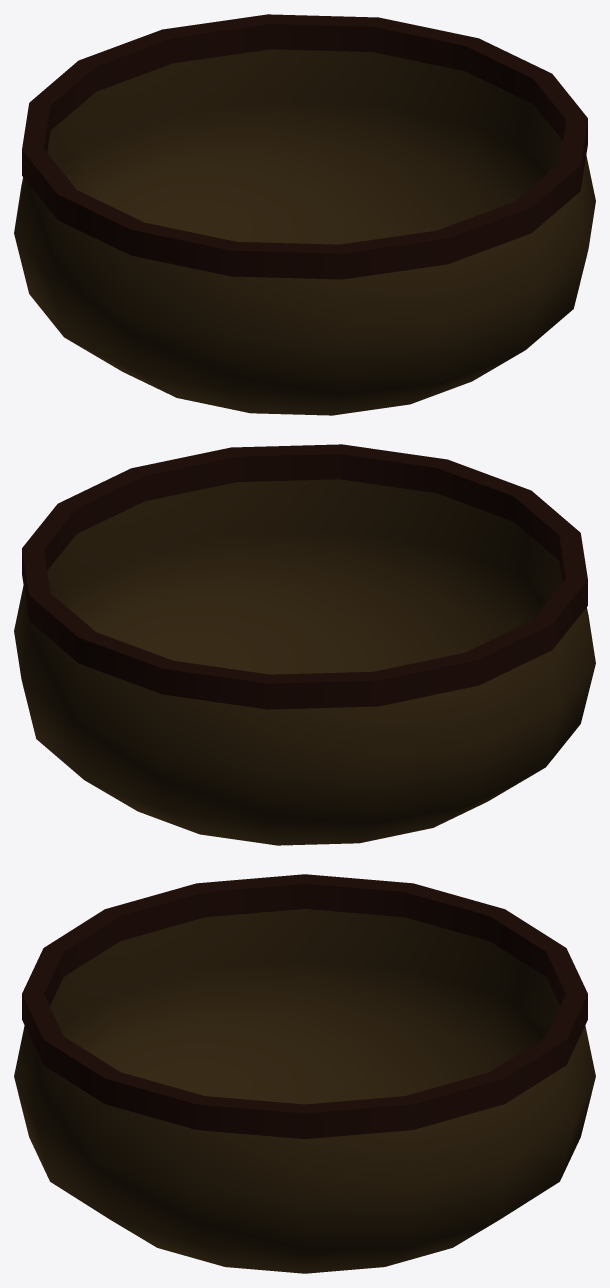
File: Sokuri.fbx
3 views of the same model, one above another, from view 1: azimuth 30°, elevation 25°; view 2: azimuth 150°, elevation 25°; view 3: azimuth 270°, elevation 25° (orthographic).
Parts seen in each view (by area): view 1: Sokuri; view 2: Sokuri; view 3: Sokuri.
Boxes of the visible parts, left/top/right/bottom form: Sokuri: left=14, top=14, right=595, bottom=415; Sokuri: left=14, top=444, right=595, bottom=845; Sokuri: left=14, top=874, right=595, bottom=1273.
Size of the model in its own units: 36.87 by 36.87 by 15.55.
